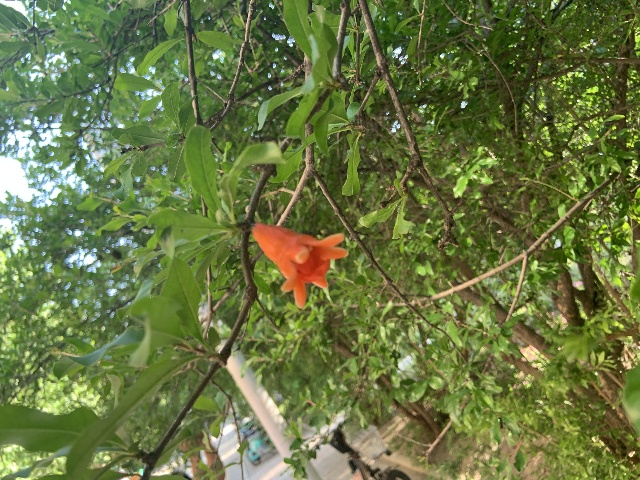flower: (252, 223, 347, 308)
